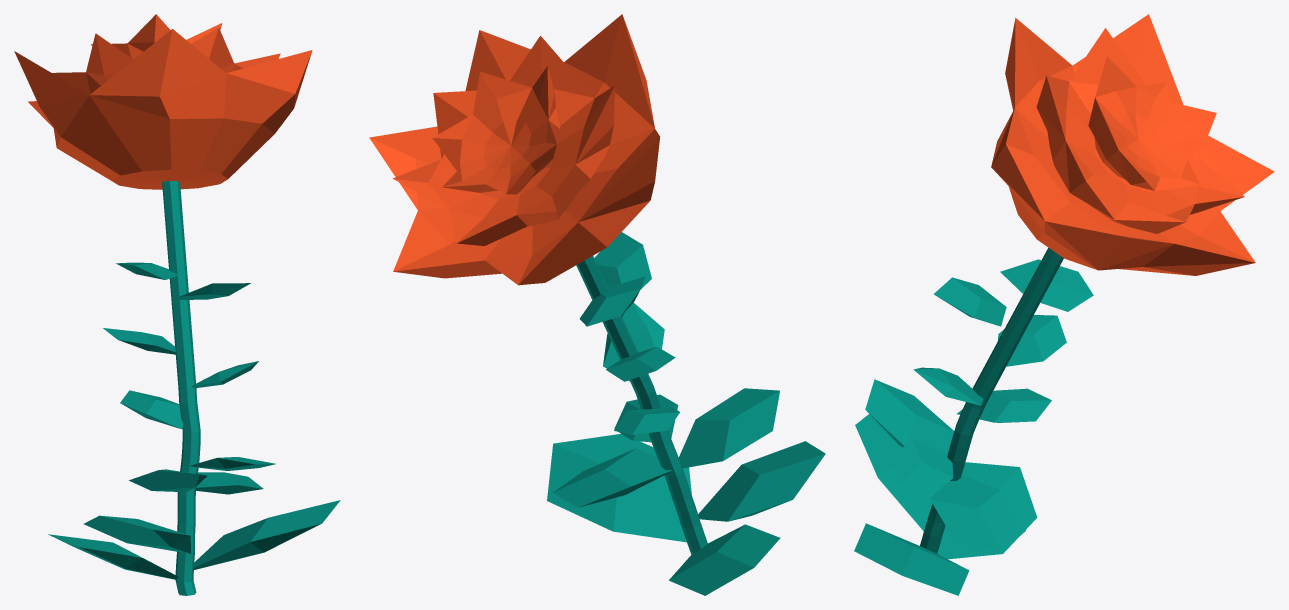
3 views of the same model, side by side, from view 1: azimuth 30°, elevation 25°; view 2: azimuth 150°, elevation 25°; view 3: azimuth 270°, elevation 25° (orthographic). The views are drawn at different scales.
Visible parts, largest first — view 1: group_1533171007, mesh_1282520077, mesh_638873575, mesh_1968810584, mesh_306940095, mesh_146379022, mesh_1239239227, mesh_160267024, mesh_1058102021, mesh_545707048, mesh_1705912721, mesh_171466161 (+1 smaller); view 2: group_1533171007, mesh_638873575, mesh_1968810584, mesh_1239239227, mesh_1282520077, mesh_306940095, mesh_160267024, mesh_1705912721, mesh_171466161, mesh_1183802390, mesh_146379022, mesh_1058102021 (+1 smaller); view 3: group_1533171007, mesh_1282520077, mesh_160267024, mesh_638873575, mesh_1239239227, mesh_306940095, mesh_1968810584, mesh_545707048, mesh_1183802390, mesh_1058102021, mesh_146379022, mesh_1705912721 (+1 smaller).
Boxes of the visible parts, left/top/right/bottom form: group_1533171007: left=14, top=14, right=312, bottom=189; mesh_1282520077: left=162, top=181, right=200, bottom=595; mesh_638873575: left=192, top=500, right=340, bottom=570; mesh_1968810584: left=83, top=515, right=190, bottom=553; mesh_306940095: left=48, top=534, right=178, bottom=579; mesh_146379022: left=120, top=390, right=183, bottom=429; mesh_1239239227: left=129, top=469, right=207, bottom=491; mesh_160267024: left=196, top=472, right=263, bottom=494; mesh_1058102021: left=103, top=328, right=176, bottom=354; mesh_545707048: left=190, top=457, right=275, bottom=470; mesh_1705912721: left=177, top=283, right=250, bottom=299; mesh_171466161: left=191, top=361, right=258, bottom=387; group_1533171007: left=369, top=14, right=659, bottom=285; mesh_638873575: left=547, top=434, right=691, bottom=542; mesh_1968810584: left=698, top=441, right=825, bottom=521; mesh_1239239227: left=678, top=388, right=779, bottom=468; mesh_1282520077: left=576, top=256, right=707, bottom=554; mesh_306940095: left=669, top=524, right=780, bottom=595; mesh_160267024: left=552, top=448, right=680, bottom=507; mesh_1705912721: left=594, top=232, right=651, bottom=289; mesh_171466161: left=603, top=302, right=664, bottom=381; mesh_1183802390: left=579, top=276, right=645, bottom=326; mesh_146379022: left=614, top=407, right=679, bottom=434; mesh_1058102021: left=606, top=346, right=675, bottom=381; group_1533171007: left=991, top=14, right=1274, bottom=275; mesh_1282520077: left=920, top=248, right=1063, bottom=553; mesh_160267024: left=930, top=475, right=1025, bottom=551; mesh_638873575: left=854, top=523, right=969, bottom=595; mesh_1239239227: left=865, top=379, right=954, bottom=453; mesh_306940095: left=937, top=462, right=1037, bottom=559; mesh_1968810584: left=855, top=414, right=964, bottom=531; mesh_545707048: left=888, top=440, right=953, bottom=496; mesh_1183802390: left=1000, top=259, right=1093, bottom=311; mesh_1058102021: left=998, top=315, right=1066, bottom=366; mesh_146379022: left=957, top=388, right=1051, bottom=422; mesh_1705912721: left=933, top=277, right=1006, bottom=326.
Size of the model in its own units: 9.91 by 16.16 by 10.86.
